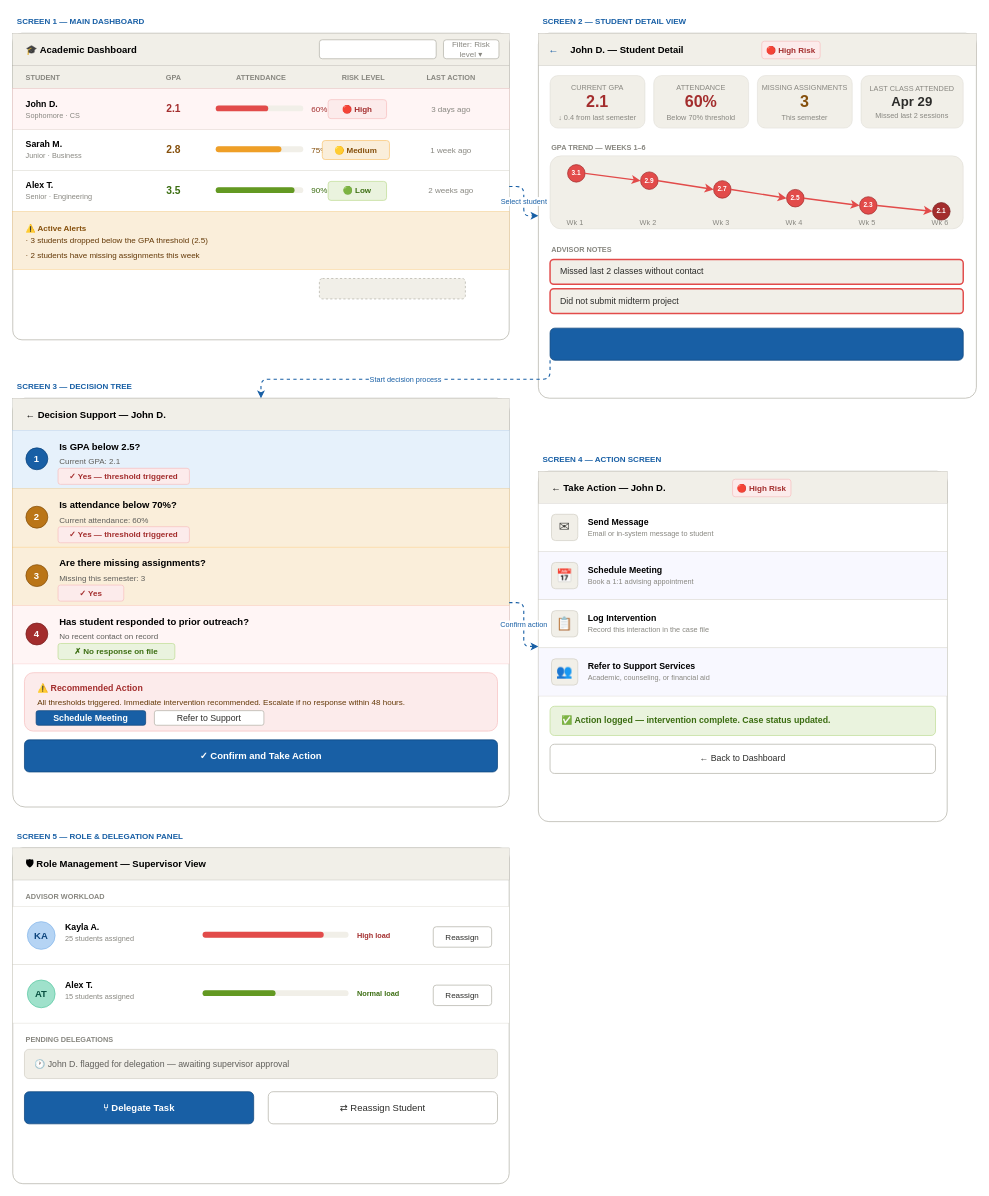
Image size: 989x1196. Some labels were removed from this diagram. The centre of each missing label's shape, as x and y in pixels:
Click student row → Screen 2: [392,288]
▶ Start Decision Process: [756,343]
🔍 Search students…: [377,49]
